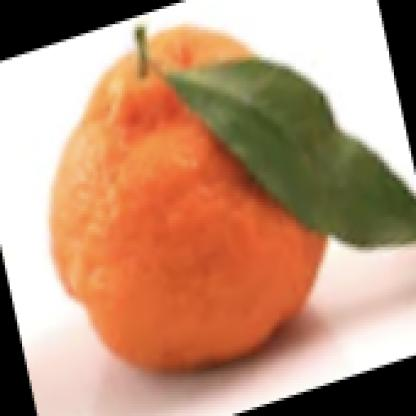orange: (40, 25, 336, 372)
